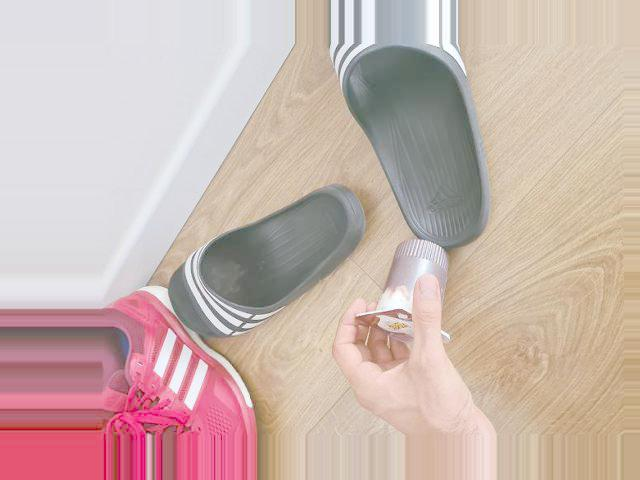milky: (358, 235, 452, 346)
